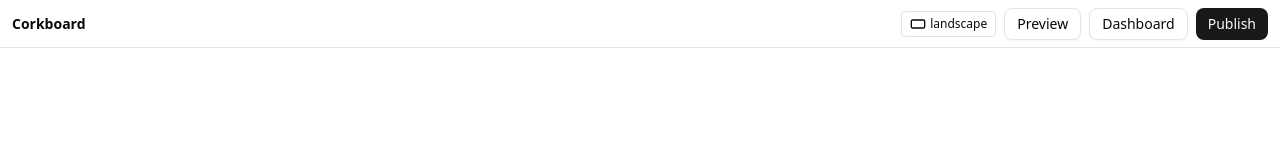
Test case: TopBar › shows Device offline toast when putDocument returns false
The width and height of the screenshot is (1280, 160).
Click the button "Publish" at (1232, 24), box [1196, 8, 1268, 40]
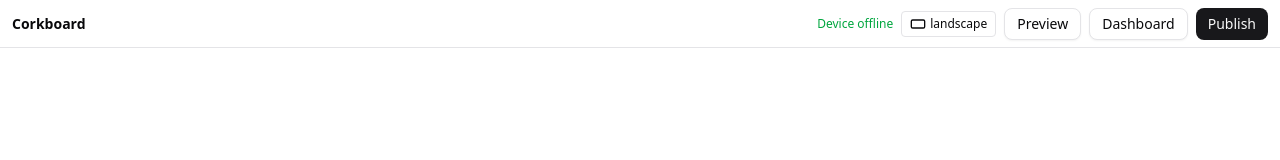
Expected: the text "Device offline" is shown, [817, 16, 893, 32]
